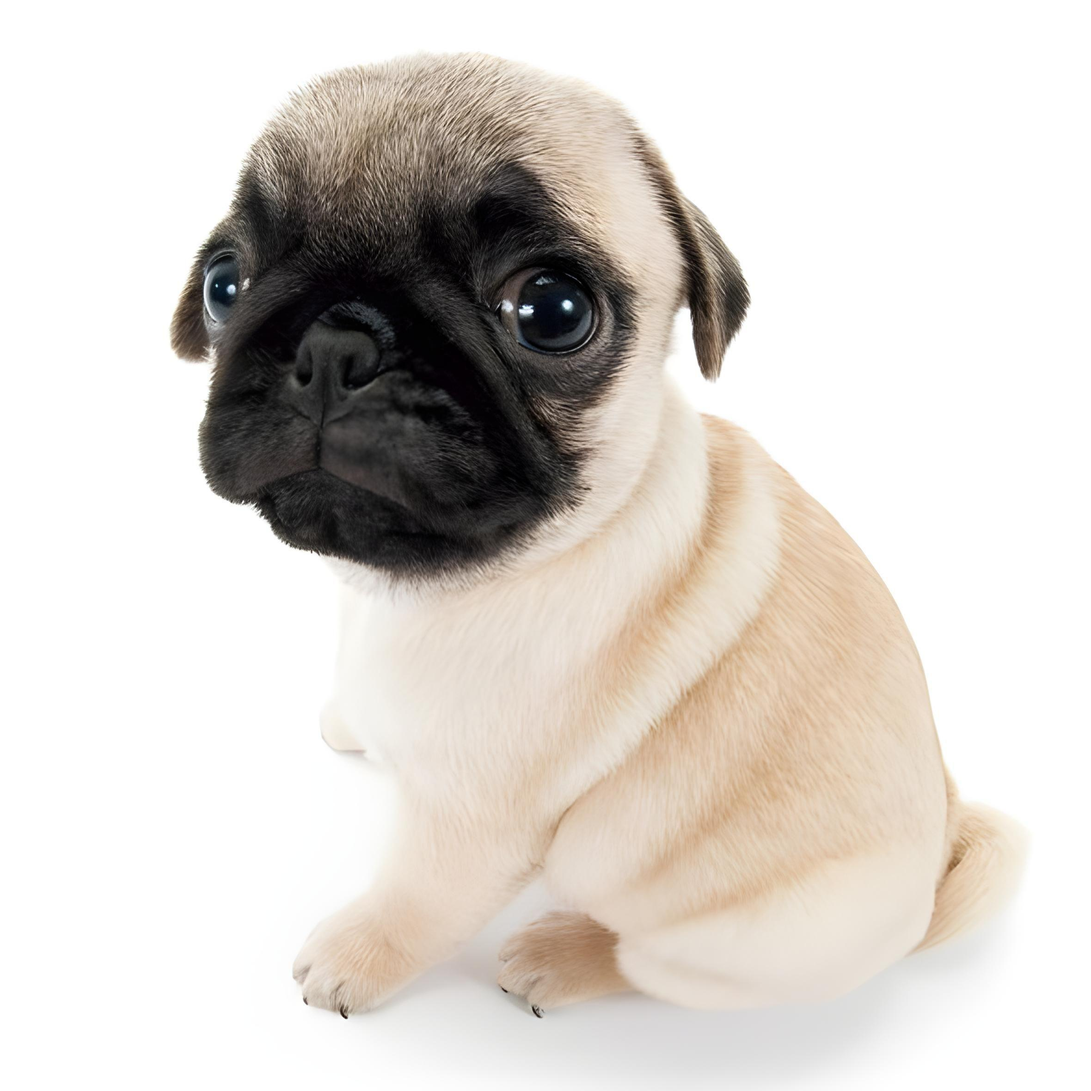puppy-dog: (167, 51, 1035, 1020)
